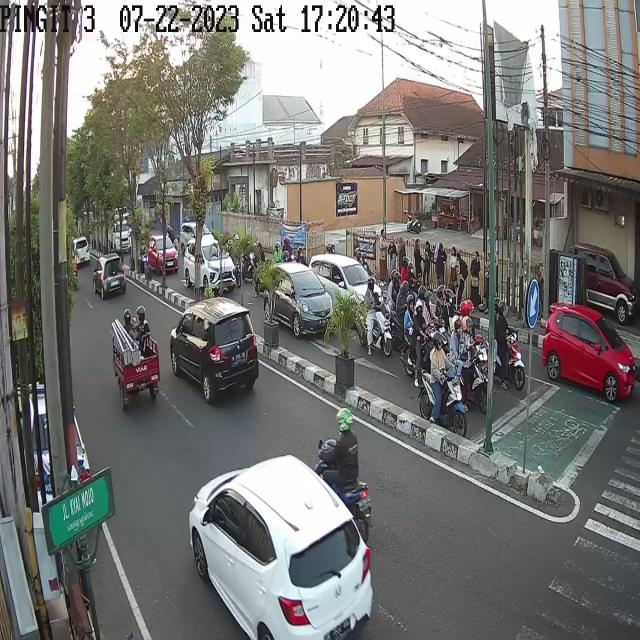car: (191, 455, 377, 638), (169, 294, 259, 407), (540, 303, 638, 403), (262, 263, 337, 339), (573, 244, 636, 327), (310, 254, 374, 306), (182, 236, 236, 295), (91, 252, 127, 300), (145, 236, 179, 273), (72, 236, 91, 268)
motorcycle: (419, 332, 466, 437), (487, 299, 526, 394), (451, 317, 488, 411), (358, 279, 392, 360), (403, 296, 432, 376)
truck: (107, 220, 132, 253)
